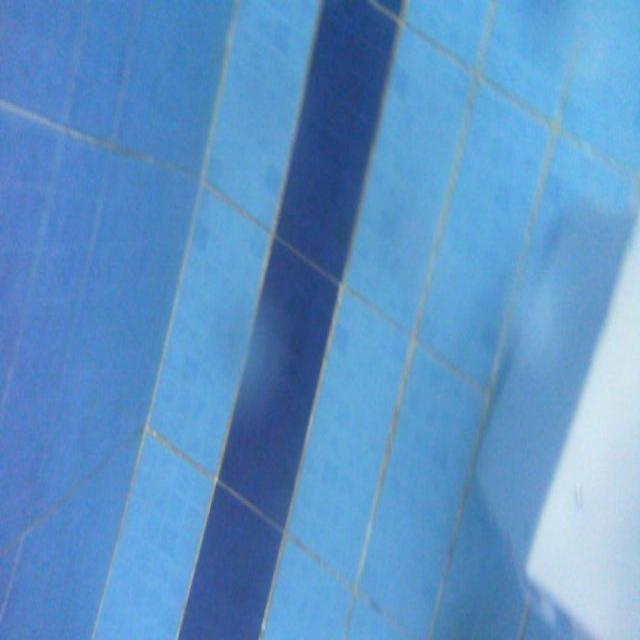Cube: (473, 199, 638, 638)
